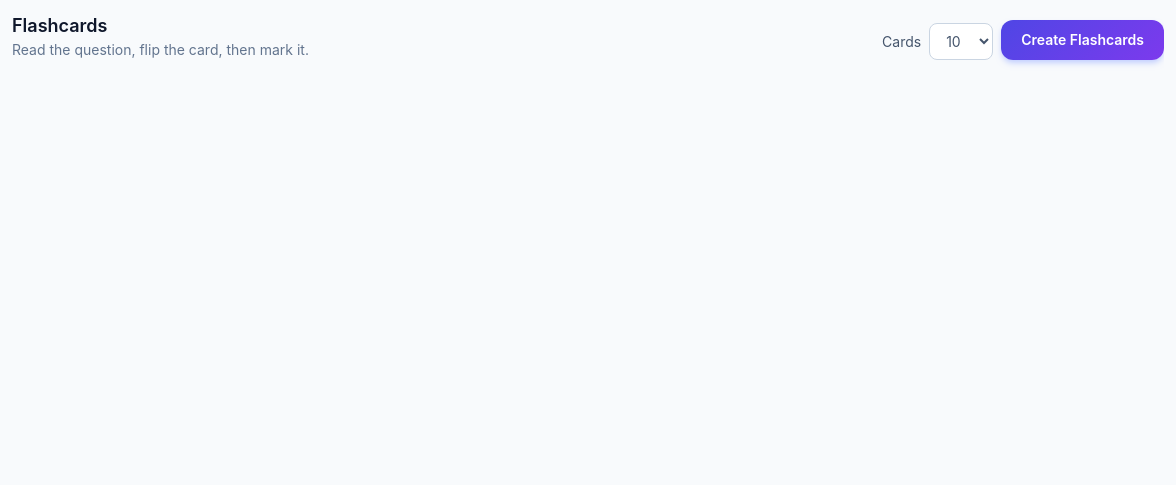
Test: FlashcardPanel › shows the question first and flips the card to the answer
The width and height of the screenshot is (1176, 485).
Click the button "Create Flashcards" at x=1083, y=40, box [1001,20,1164,60]
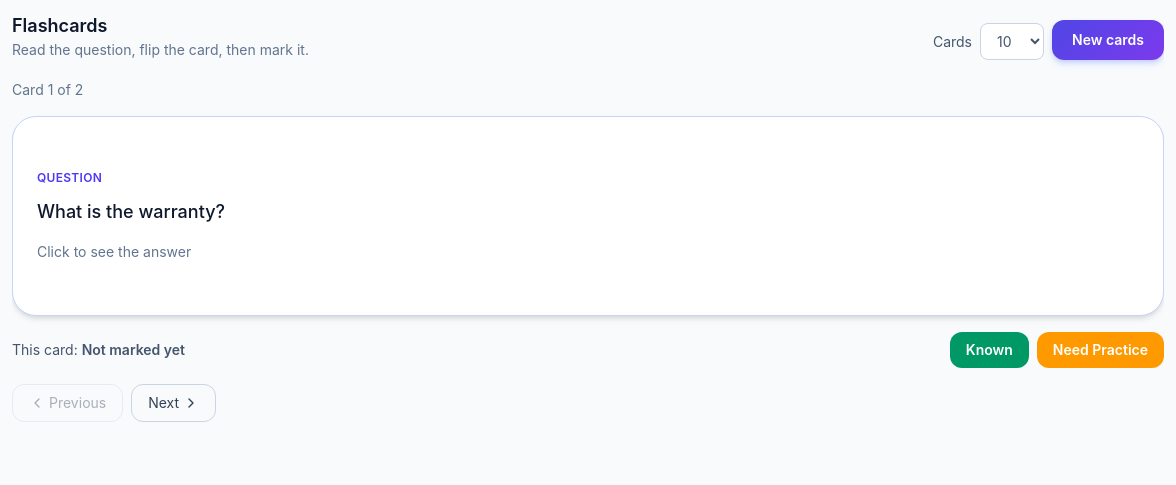
Result: the text "What is the warranty?" is shown at [37,198,225,226]
Result: the text with test id "card-face" reads "What is the warranty?" at [37,201,225,222]
Click the button with aria-label "Show the answer" at x=588, y=216, box [12,116,1164,316]
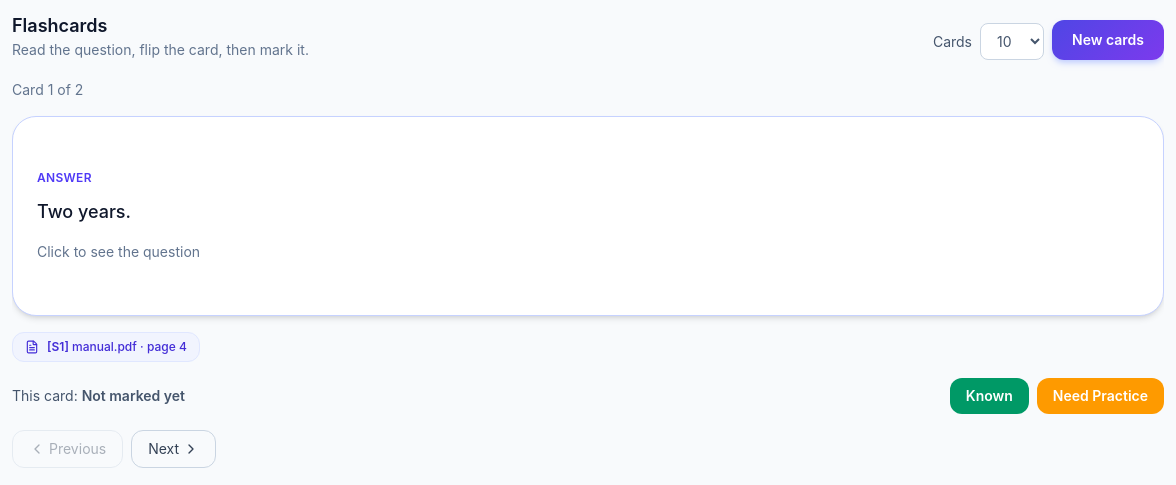
Result: the text with test id "card-face" reads "Two years." at [37,201,131,222]
Result: the text "[S1] manual.pdf · page 4" is shown at [47,339,187,355]
